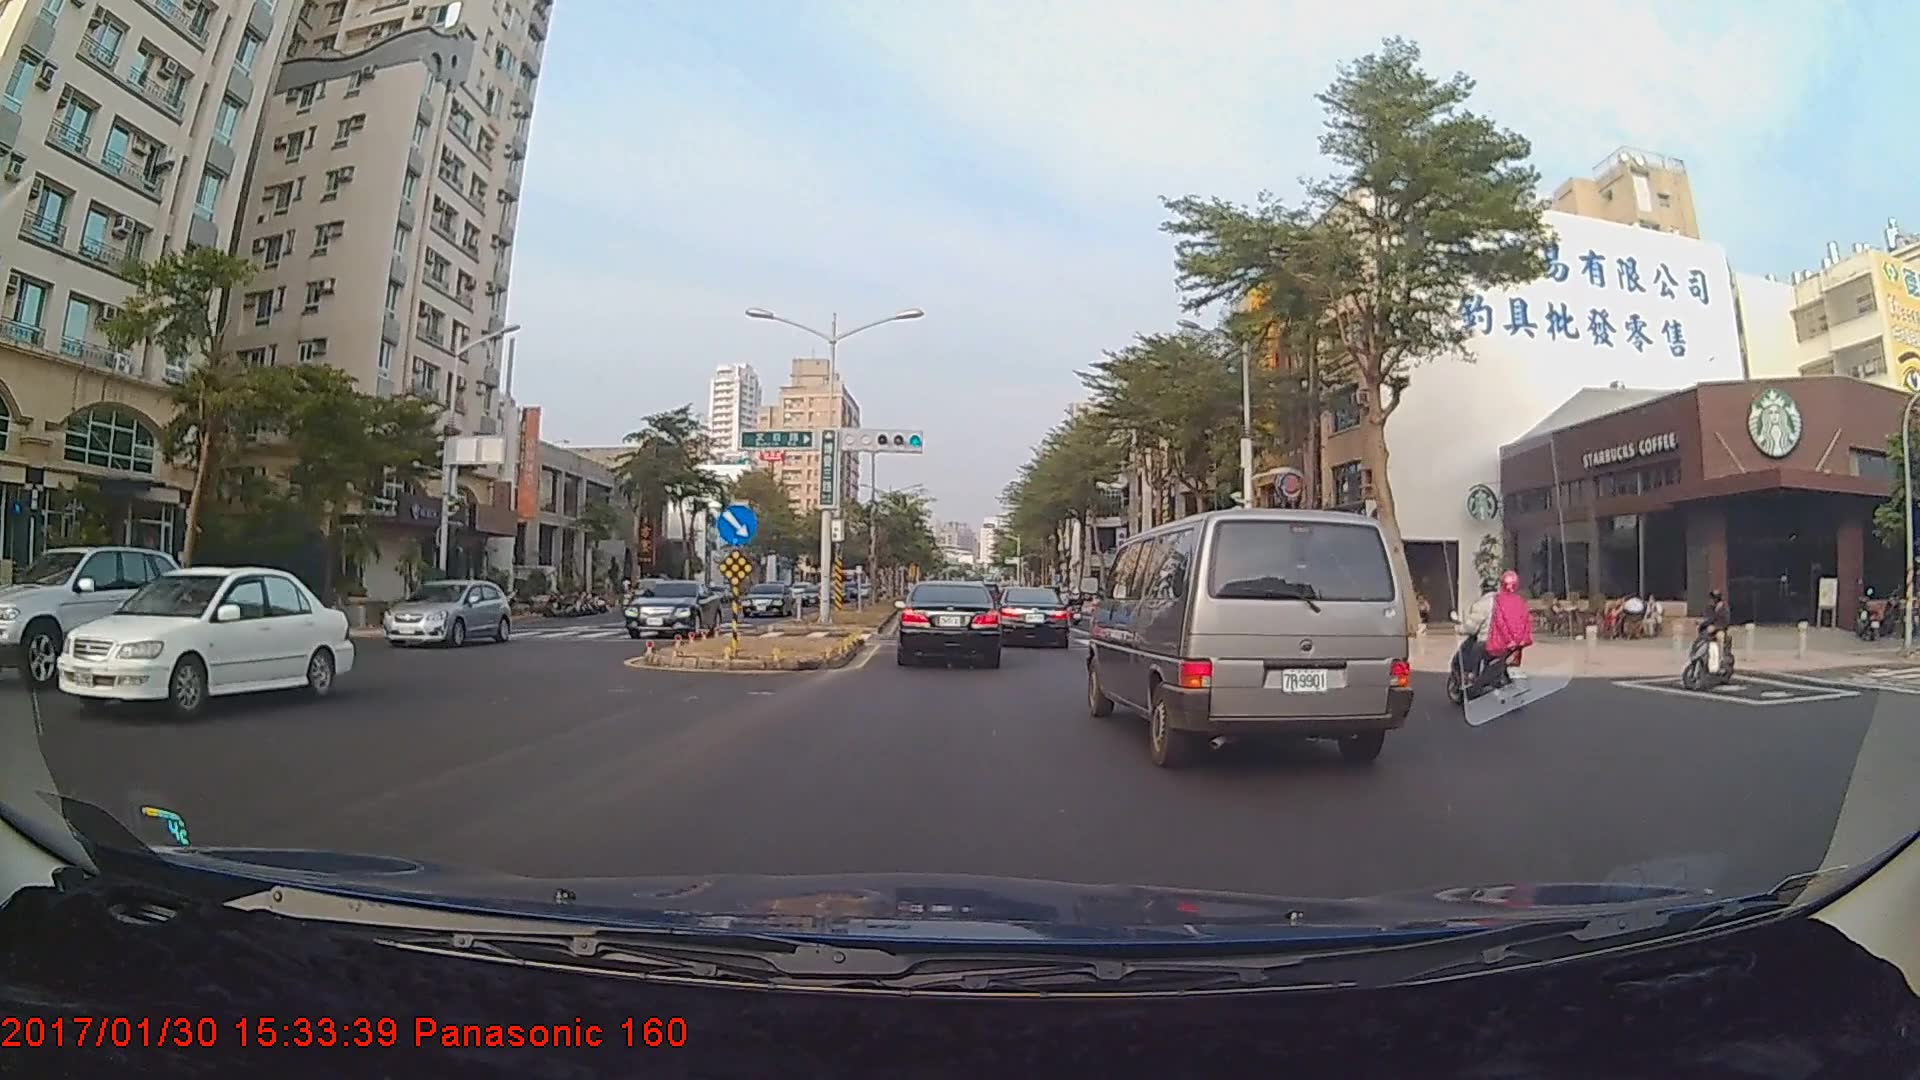rider: (1453, 563, 1551, 713), (1677, 586, 1751, 694)
vehicle: (1090, 500, 1410, 768), (52, 568, 351, 719), (0, 541, 190, 679), (380, 578, 509, 648), (897, 581, 1002, 666), (619, 578, 721, 641), (999, 585, 1071, 648), (738, 580, 796, 619)
